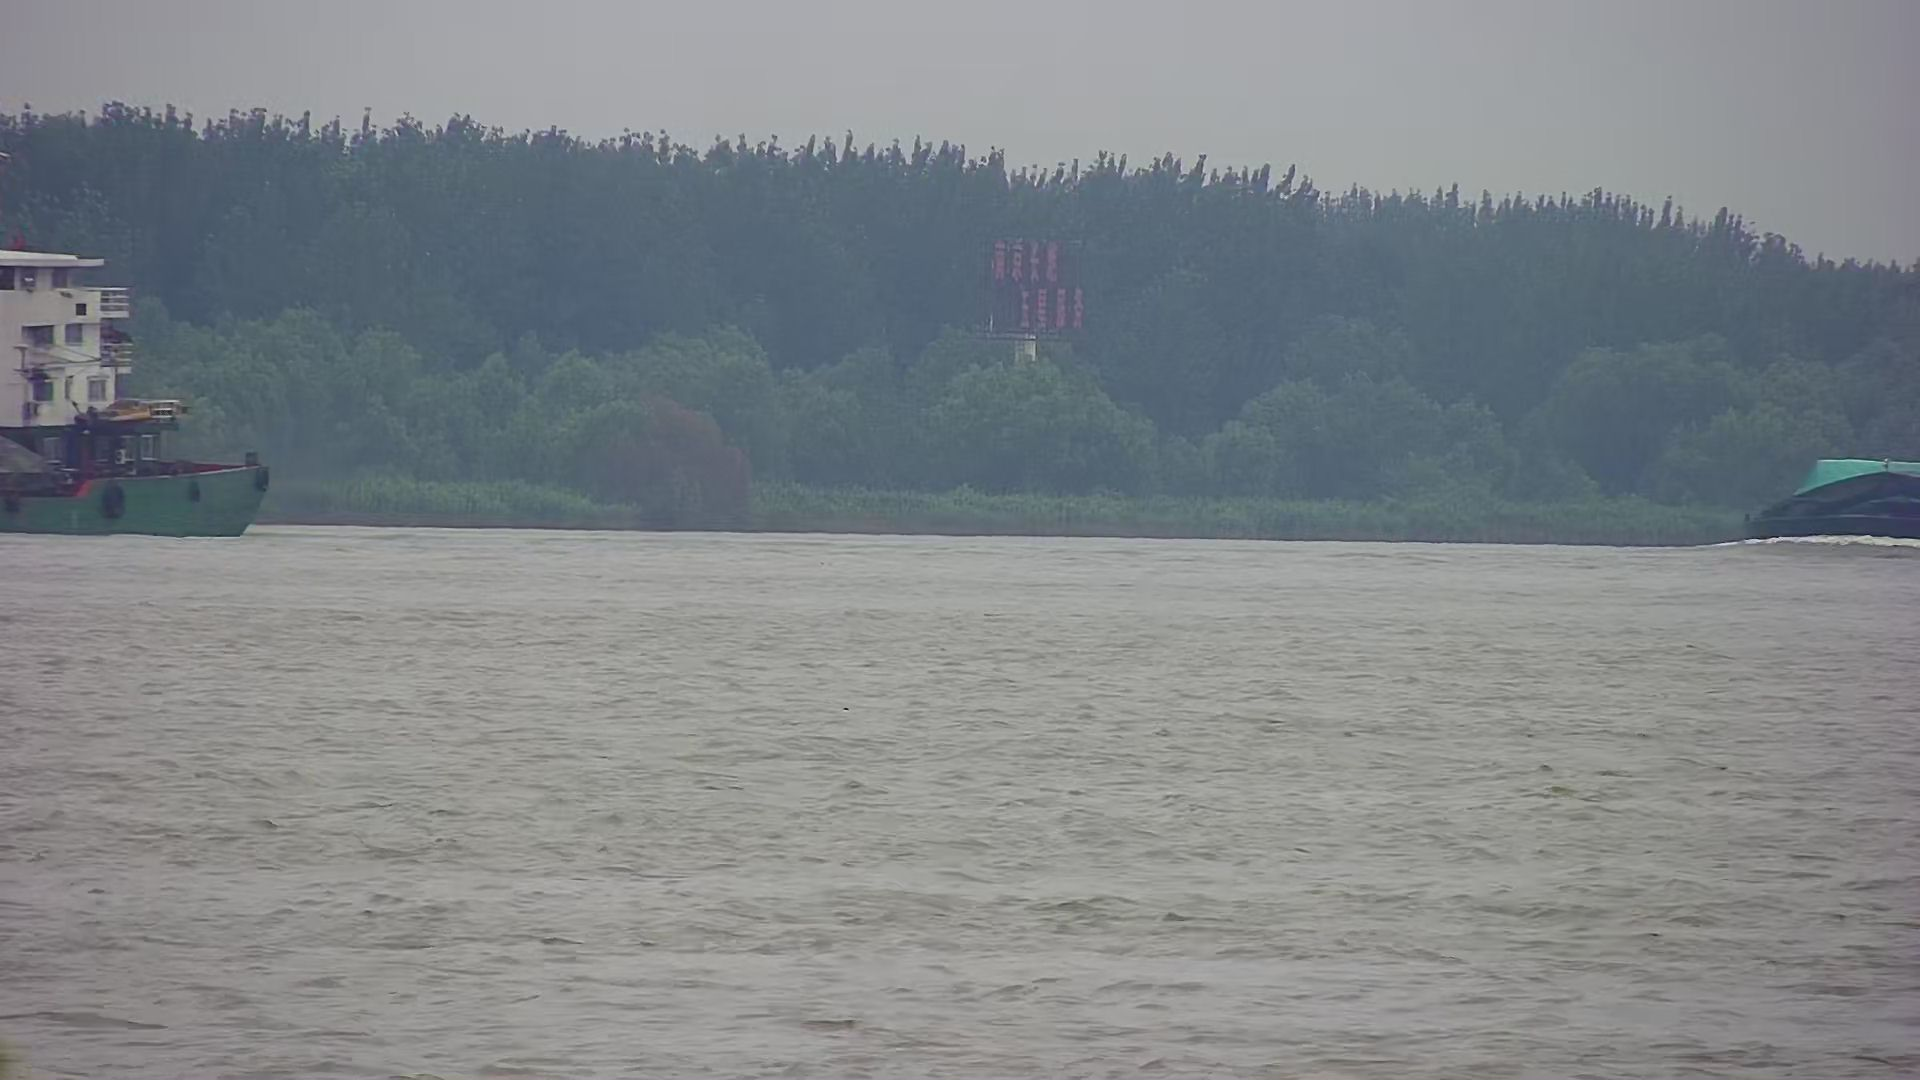ship: (1, 142, 272, 545)
